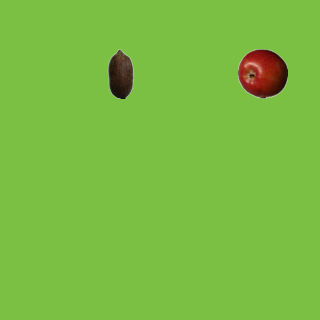Apple Braeburn: (237, 48, 287, 98)
Nut Pecan: (95, 48, 145, 98)
